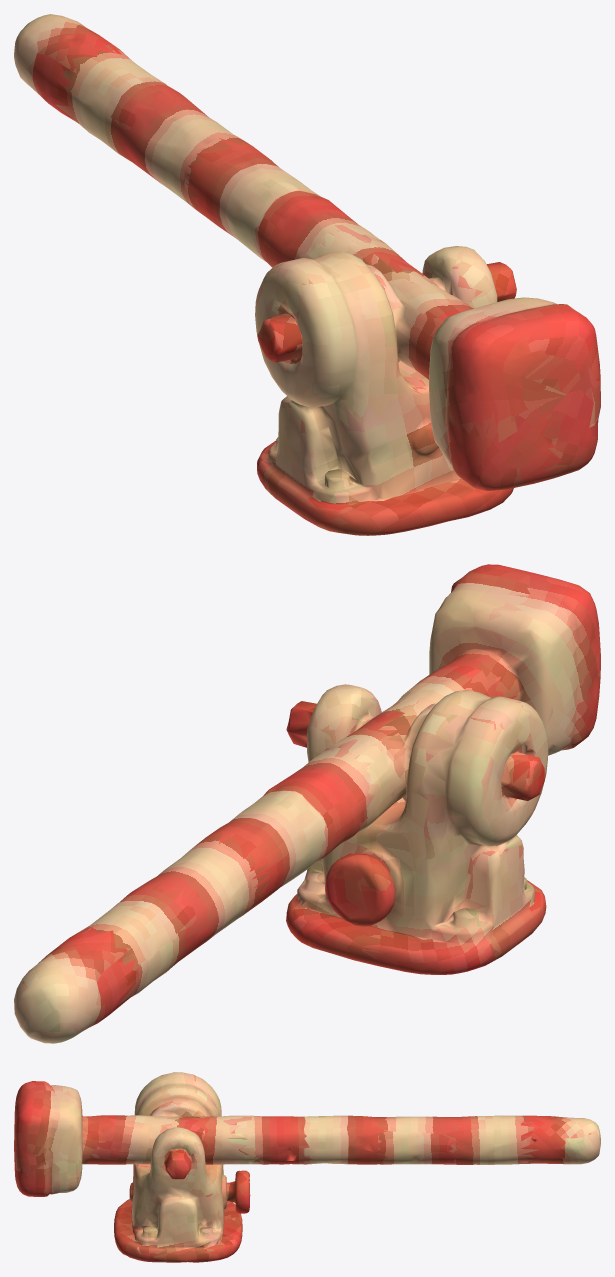
File: KR_사물_s1_sm_gate_door.glb
3 views of the same model, one above another, from view 1: azimuth 30°, elevation 25°; view 2: azimuth 150°, elevation 25°; view 3: azimuth 270°, elevation 25° (orthographic). The views are drawn at different scales.
Parts seen in each view (by area): view 1: tripo_node_94e38ae2-ee7b-4596-ba96-41a88b745982; view 2: tripo_node_94e38ae2-ee7b-4596-ba96-41a88b745982; view 3: tripo_node_94e38ae2-ee7b-4596-ba96-41a88b745982.
Part boxes in pixels (x1=…): tripo_node_94e38ae2-ee7b-4596-ba96-41a88b745982: x1=14, y1=14, x2=600, y2=535; tripo_node_94e38ae2-ee7b-4596-ba96-41a88b745982: x1=14, y1=564, x2=600, y2=1043; tripo_node_94e38ae2-ee7b-4596-ba96-41a88b745982: x1=14, y1=1072, x2=600, y2=1262.
Bounding box in the file's own units: 0.2758 × 0.2767 × 1.
Materials: 1 (1 with a texture image).
